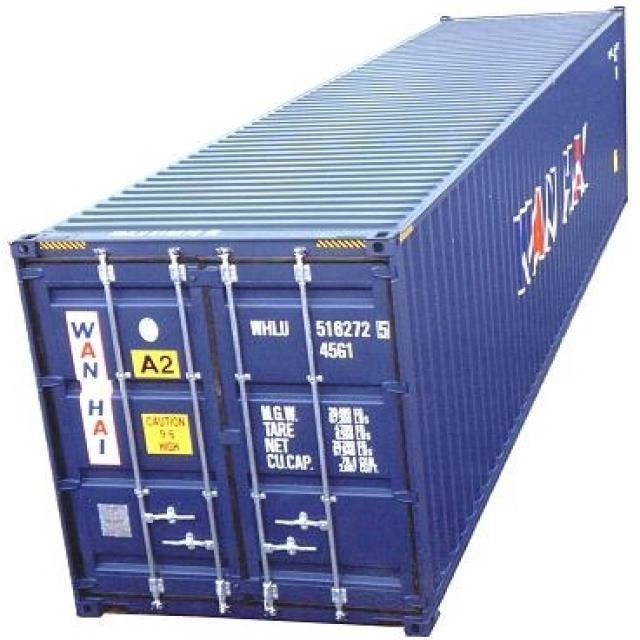container_number_h: (242, 315, 398, 363)
